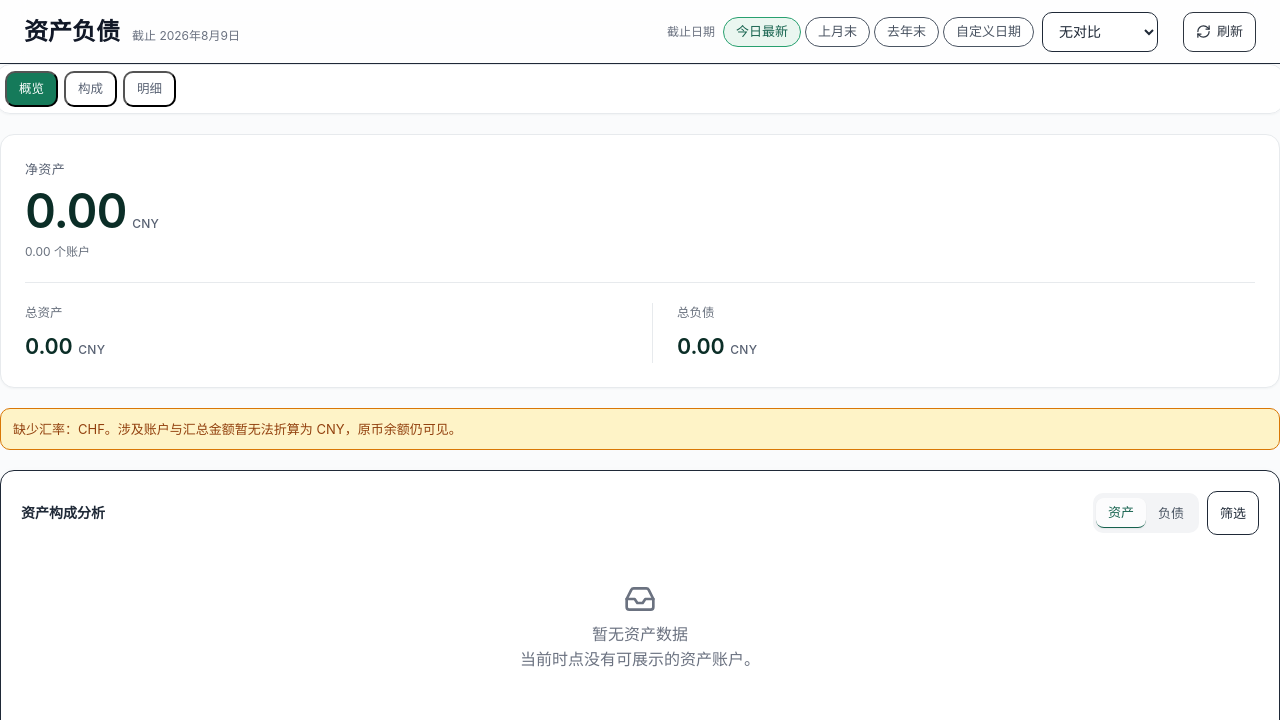
BalanceSheetPage › 无分组数据时展示空状态（Composition Card 空态）
The width and height of the screenshot is (1280, 720).
Expected: the text "暂无资产数据" is shown, [592, 622, 688, 647]
// 切到负债 side：各自空态独立
Click the button "负债": (1171, 513) [1146, 498, 1196, 528]
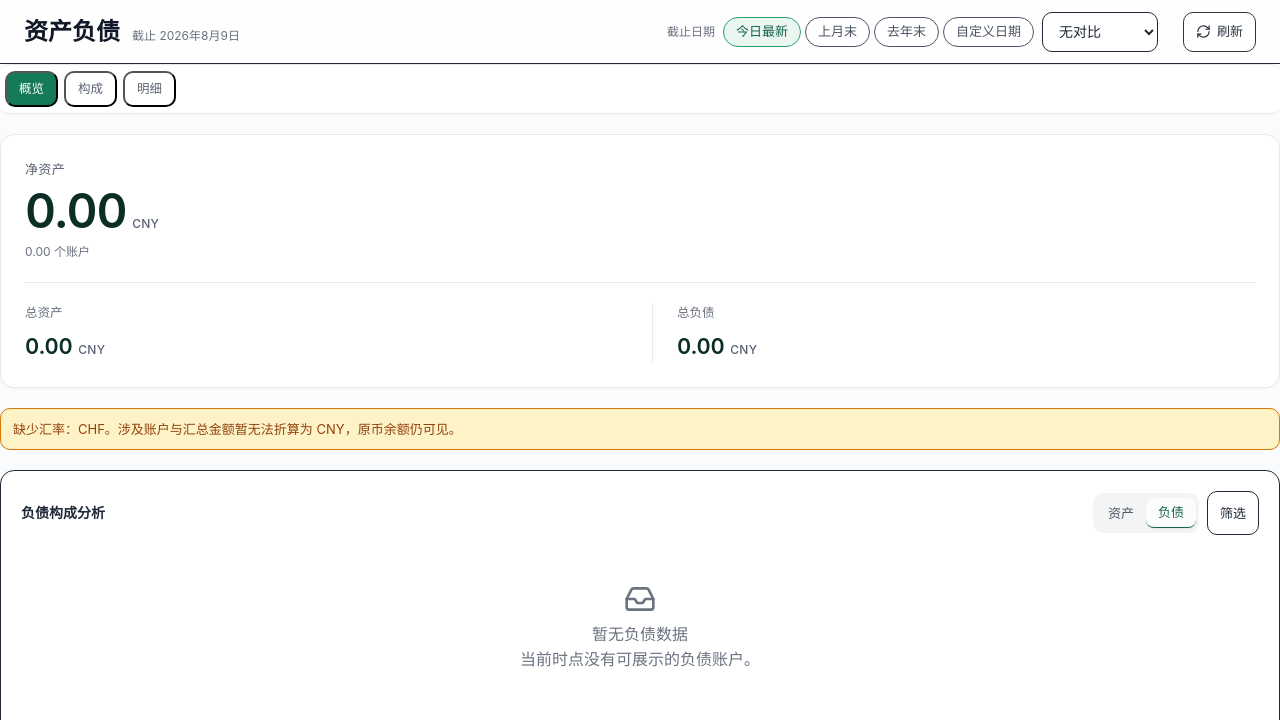
Expected: the text "暂无负债数据" is shown, [592, 622, 688, 647]
